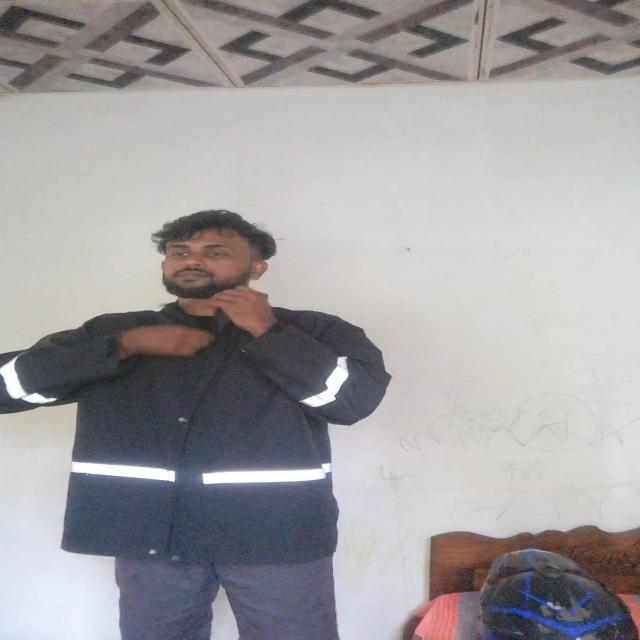Jacket_Wearer: (13, 295, 397, 569)
Person: (4, 198, 418, 640)
